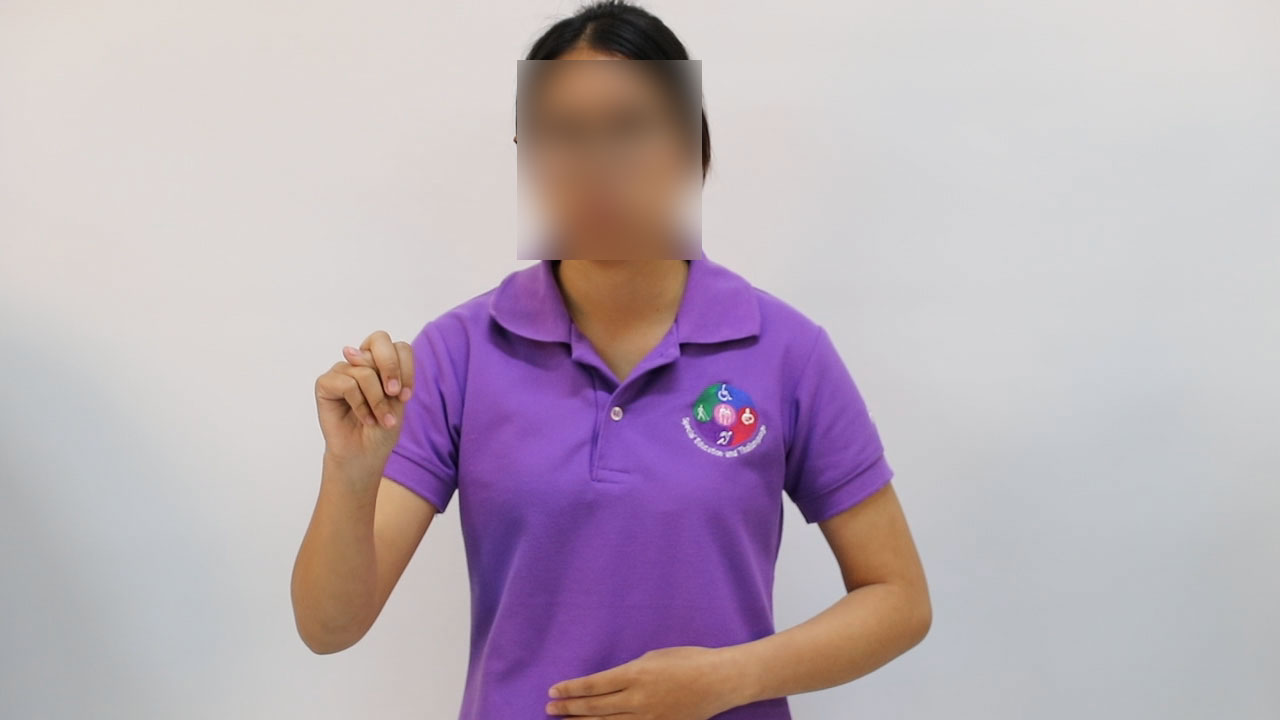nor: (297, 317, 434, 463)
